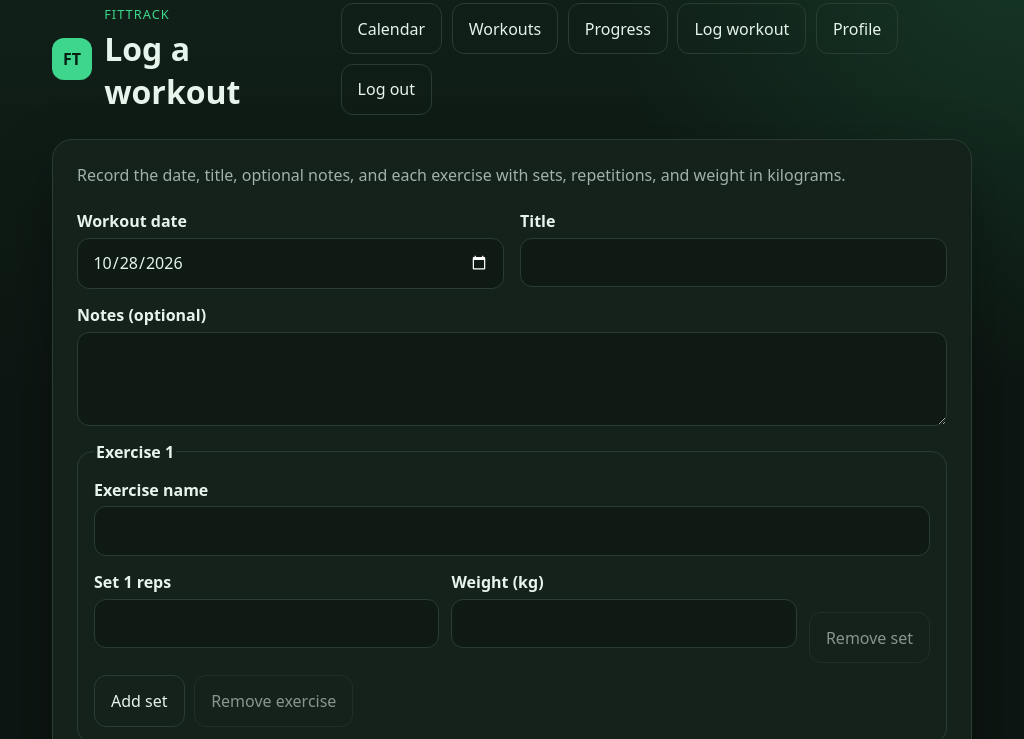
Test: S2 workout pages › creates a workout and shows the saved details
Step 1. Type "Push day" into the field labelled "Title" → (734, 262), box [520, 238, 947, 287]
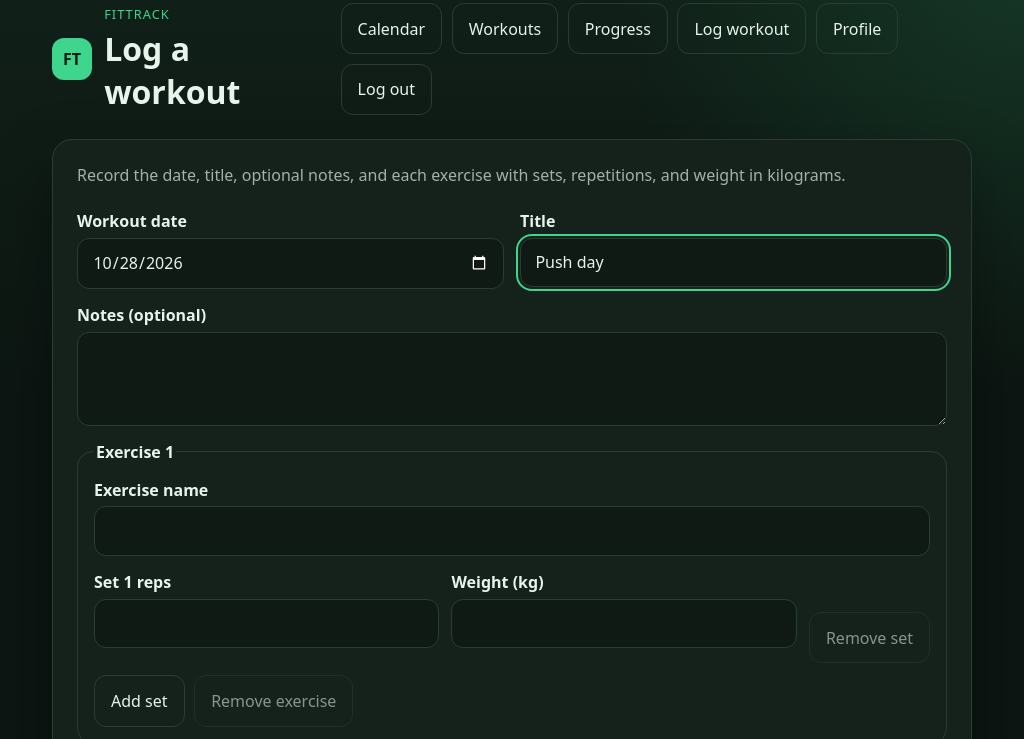
Step 2. Type "Bench press" into the field labelled "Exercise name" → (512, 531), box [94, 506, 930, 556]
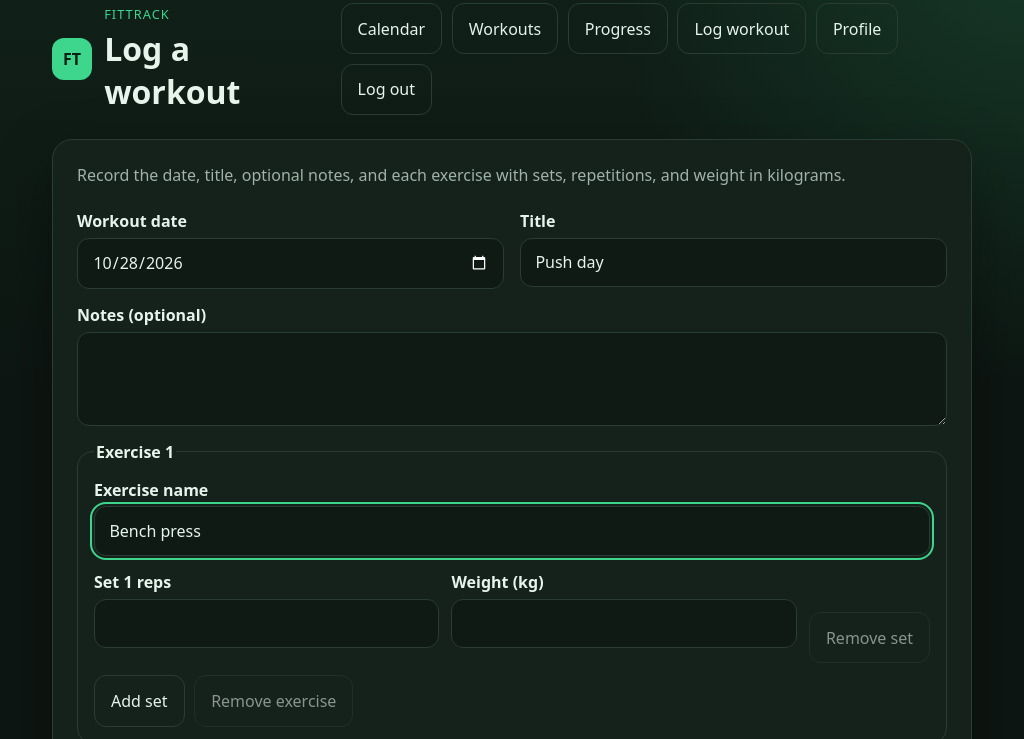
Step 3. Type "8" into the number field labelled "Set 1 reps" → (267, 624), box [94, 599, 440, 648]
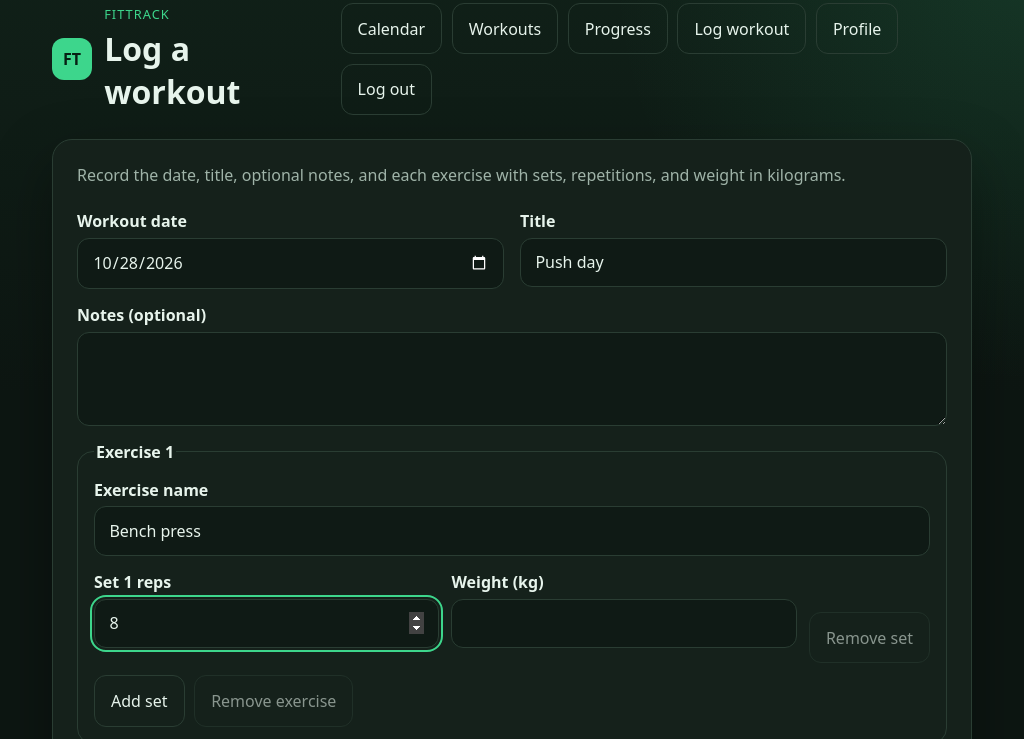
Step 4. Type "60" into the number field labelled "Weight (kg)" → (624, 624), box [452, 599, 797, 648]
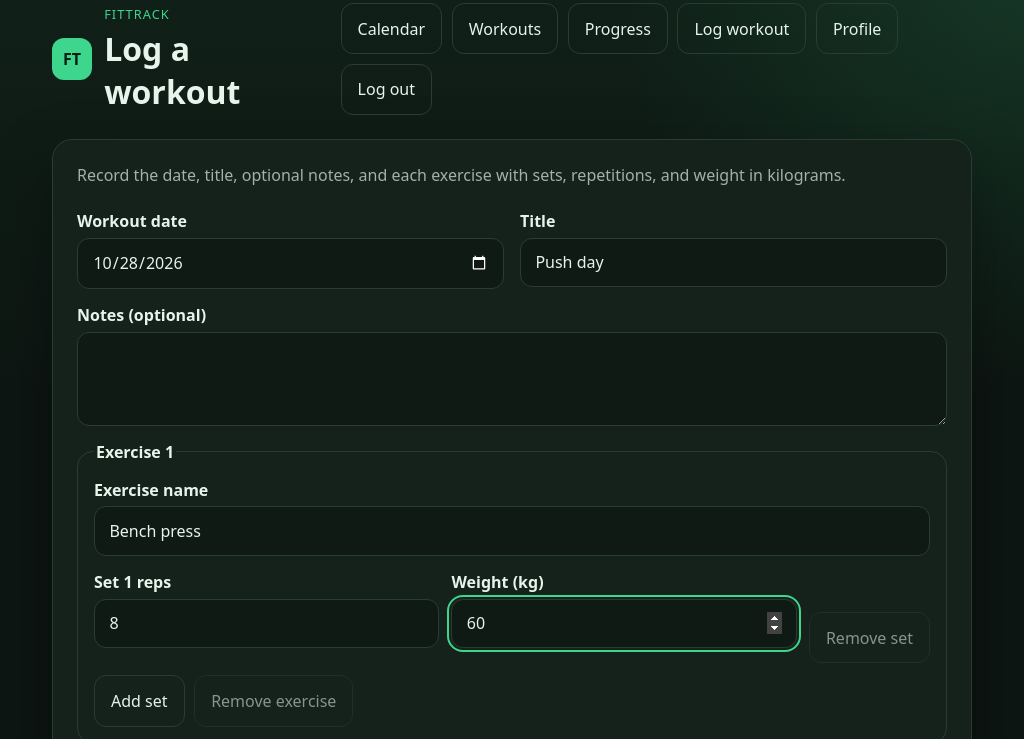
Step 5. Type "Felt explosive." into the text box labelled "Notes (optional)" → (512, 379), box [77, 332, 947, 426]
(page scrolled)
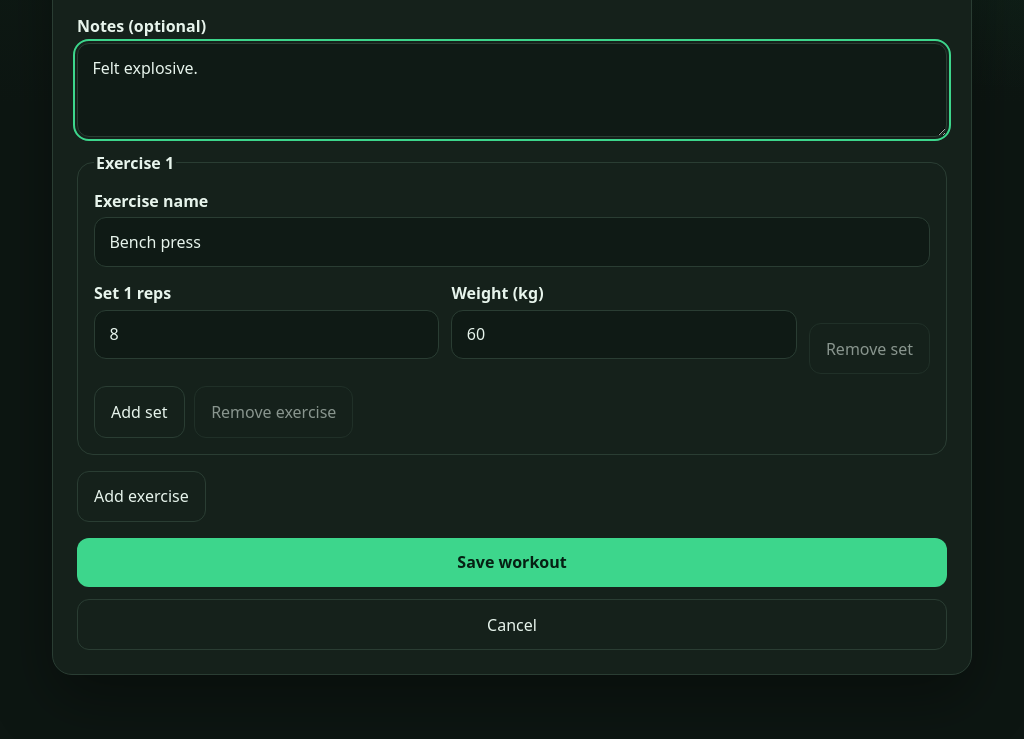
Step 6. Click the button "Save workout" → (512, 562), box [77, 538, 947, 587]
(page scrolled)
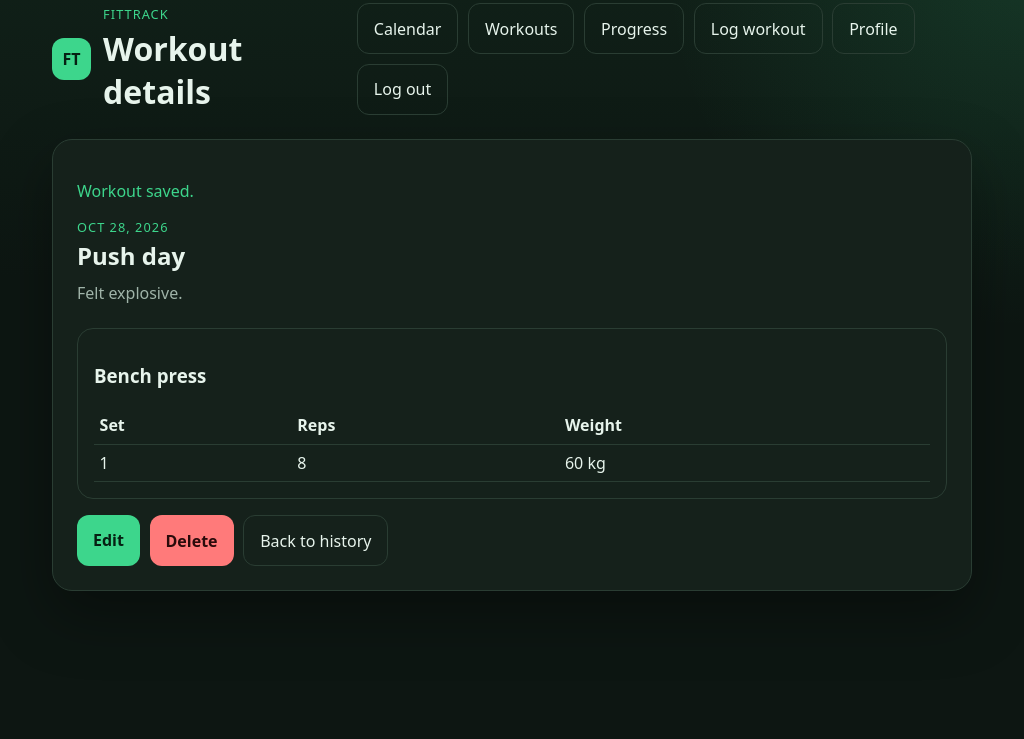
Result: the text "Workout saved." is shown at [77, 180, 194, 202]
Result: the heading "Push day" is shown at [77, 239, 185, 272]
Result: the heading "Bench press" is shown at [94, 364, 206, 388]
